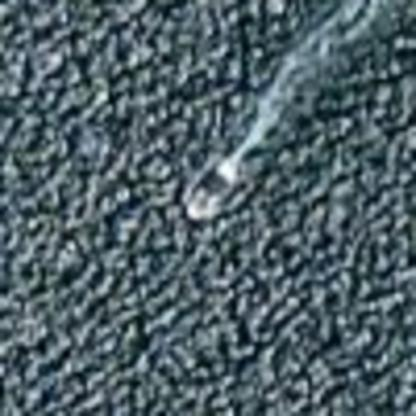ship: (173, 151, 257, 221)
